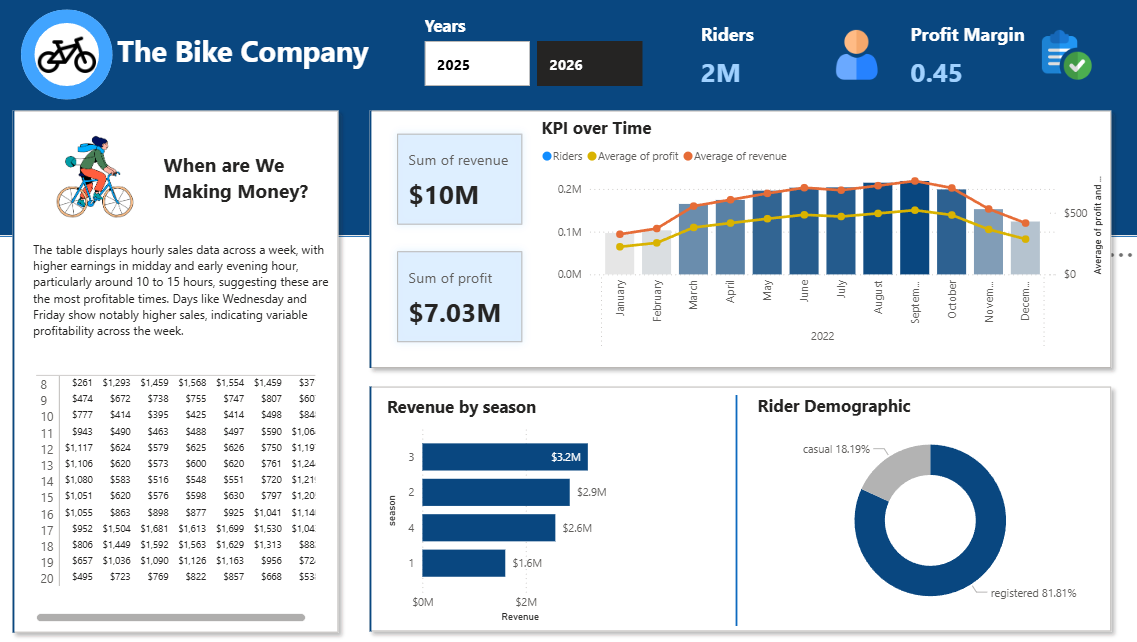

Layout of this report page (visuals, bound fields, positions):
{"tool":"powerbi","page":{"name":"Page 1","canvas":[1280,720],"ordinal":0},"visuals":[{"type":"shape","box":[10,0,1270,264],"z":0},{"type":"cardVisual","fields":{"Data":["Min(Query1.riders)"]},"box":[10,106,396,614],"z":1000},{"type":"cardVisual","fields":{"Data":["Min(Query1.riders)"]},"box":[406,106,858,320],"z":2000},{"type":"cardVisual","fields":{"Data":["Min(Query1.riders)"]},"box":[406,414,858,306],"z":3000},{"type":"cardVisual","fields":{"Data":["Min(Query1.riders)"]},"box":[36.7,131.7,171.7,131.7],"z":4000},{"type":"pivotTable","fields":{"Values":["Avg(Query1.revenue)"],"Columns":["Query1.weekday"],"Rows":["Query1.hr"]},"box":[48.3,386.7,320,310],"z":5000},{"type":"textbox","box":[190,163.3,178.3,100],"z":6000},{"type":"textbox","box":[45,263.3,338.3,150],"z":7000},{"type":"lineClusteredColumnComboChart","title":"KPI over Time","fields":{"Category":["Query1.dteday.Variation.Date Hierarchy.Year","Query1.dteday.Variation.Date Hierarchy.Month","Query1.dteday.Variation.Date Hierarchy.Day"],"Y":["Sum(Query1.riders)"],"Y2":["Avg(Query1.profit)","Avg(Query1.revenue)"]},"box":[610,130,633.3,266.7],"z":8000},{"type":"clusteredBarChart","fields":{"Category":["Query1.season"],"Y":["Sum(Query1.revenue)"]},"box":[438.3,440,278.3,256.7],"z":9000},{"type":"donutChart","title":"Rider Demographic","fields":{"Category":["Query1.rider_type"],"Y":["Sum(Query1.riders)"]},"box":[850,438.3,393.3,256.7],"z":10000},{"type":"shape","box":[813.3,440,36.7,256.7],"z":11000},{"type":"cardVisual","title":"KPI over Time","fields":{"Data":["Sum(Query1.revenue)","Sum(Query1.profit)"]},"box":[438.3,133.3,171.7,265],"z":12000},{"type":"cardVisual","fields":{"Data":["Sum(Query1.riders)","Query1.Profit Margin"]},"box":[775,8.3,468.3,106.7],"z":13000},{"type":"shape","box":[36.7,11.7,101.7,100],"z":14000},{"type":"image","box":[50,21.7,75,80],"z":15000},{"type":"textbox","box":[138.3,30,300,63.3],"z":16000},{"type":"advancedSlicerVisual","fields":{"Values":["Query1.Actual Year"]},"box":[480,16.4,380,85.5],"z":17000}]}

Visuals, with their boxes in screenshot pixels (x1, y1, x2, y2), scaled from the page's 1280x720 canvas onto the 1137x642 screenshot:
shape: x1=9, y1=0, x2=1136, y2=235
cardVisual - Min(Query1.riders): x1=9, y1=95, x2=361, y2=641
cardVisual - Min(Query1.riders): x1=361, y1=95, x2=1123, y2=380
cardVisual - Min(Query1.riders): x1=361, y1=369, x2=1123, y2=641
cardVisual - Min(Query1.riders): x1=33, y1=117, x2=185, y2=235
pivotTable - Avg(Query1.revenue) x Query1.weekday: x1=43, y1=345, x2=327, y2=621
textbox: x1=169, y1=146, x2=327, y2=235
textbox: x1=40, y1=235, x2=340, y2=369
"KPI over Time" lineClusteredColumnComboChart: x1=542, y1=116, x2=1104, y2=354
clusteredBarChart - Query1.season x Sum(Query1.revenue): x1=389, y1=392, x2=637, y2=621
"Rider Demographic" donutChart: x1=755, y1=391, x2=1104, y2=620
shape: x1=722, y1=392, x2=755, y2=621
"KPI over Time" cardVisual: x1=389, y1=119, x2=542, y2=355
cardVisual - Sum(Query1.riders) x Query1.Profit Margin: x1=688, y1=7, x2=1104, y2=103
shape: x1=33, y1=10, x2=123, y2=100
image: x1=44, y1=19, x2=111, y2=91
textbox: x1=123, y1=27, x2=389, y2=83
advancedSlicerVisual - Query1.Actual Year: x1=426, y1=15, x2=764, y2=91
